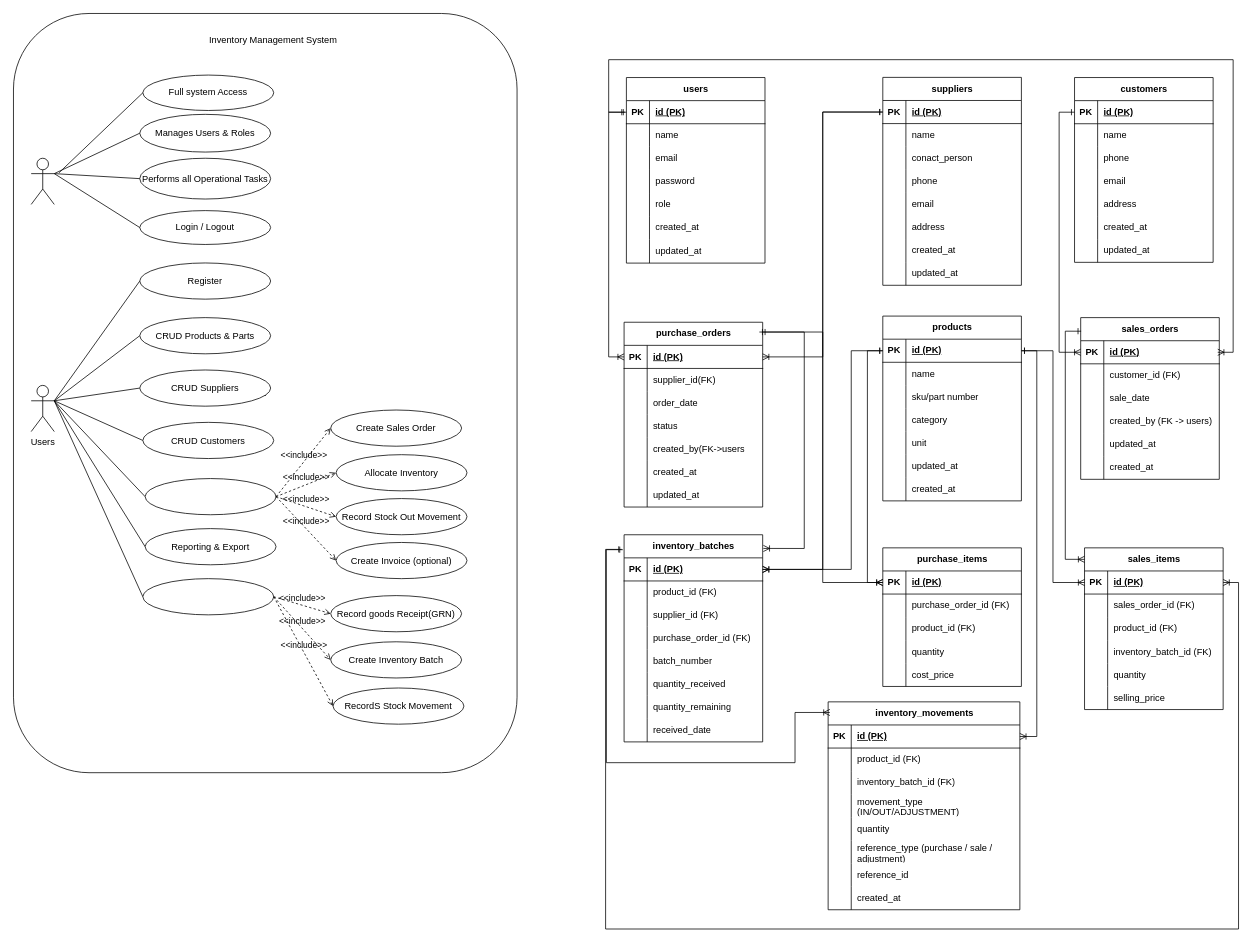
The diagram is 1259 pixels wide and 949 high, and some of its shapes have lost their labels. The centre of each missing label's shape, as x and y in pixels:
Admin: (42,180)
CRUD Purchase & StockIn: (208,596)
CRUD Sales & Stock Out: (210,496)
